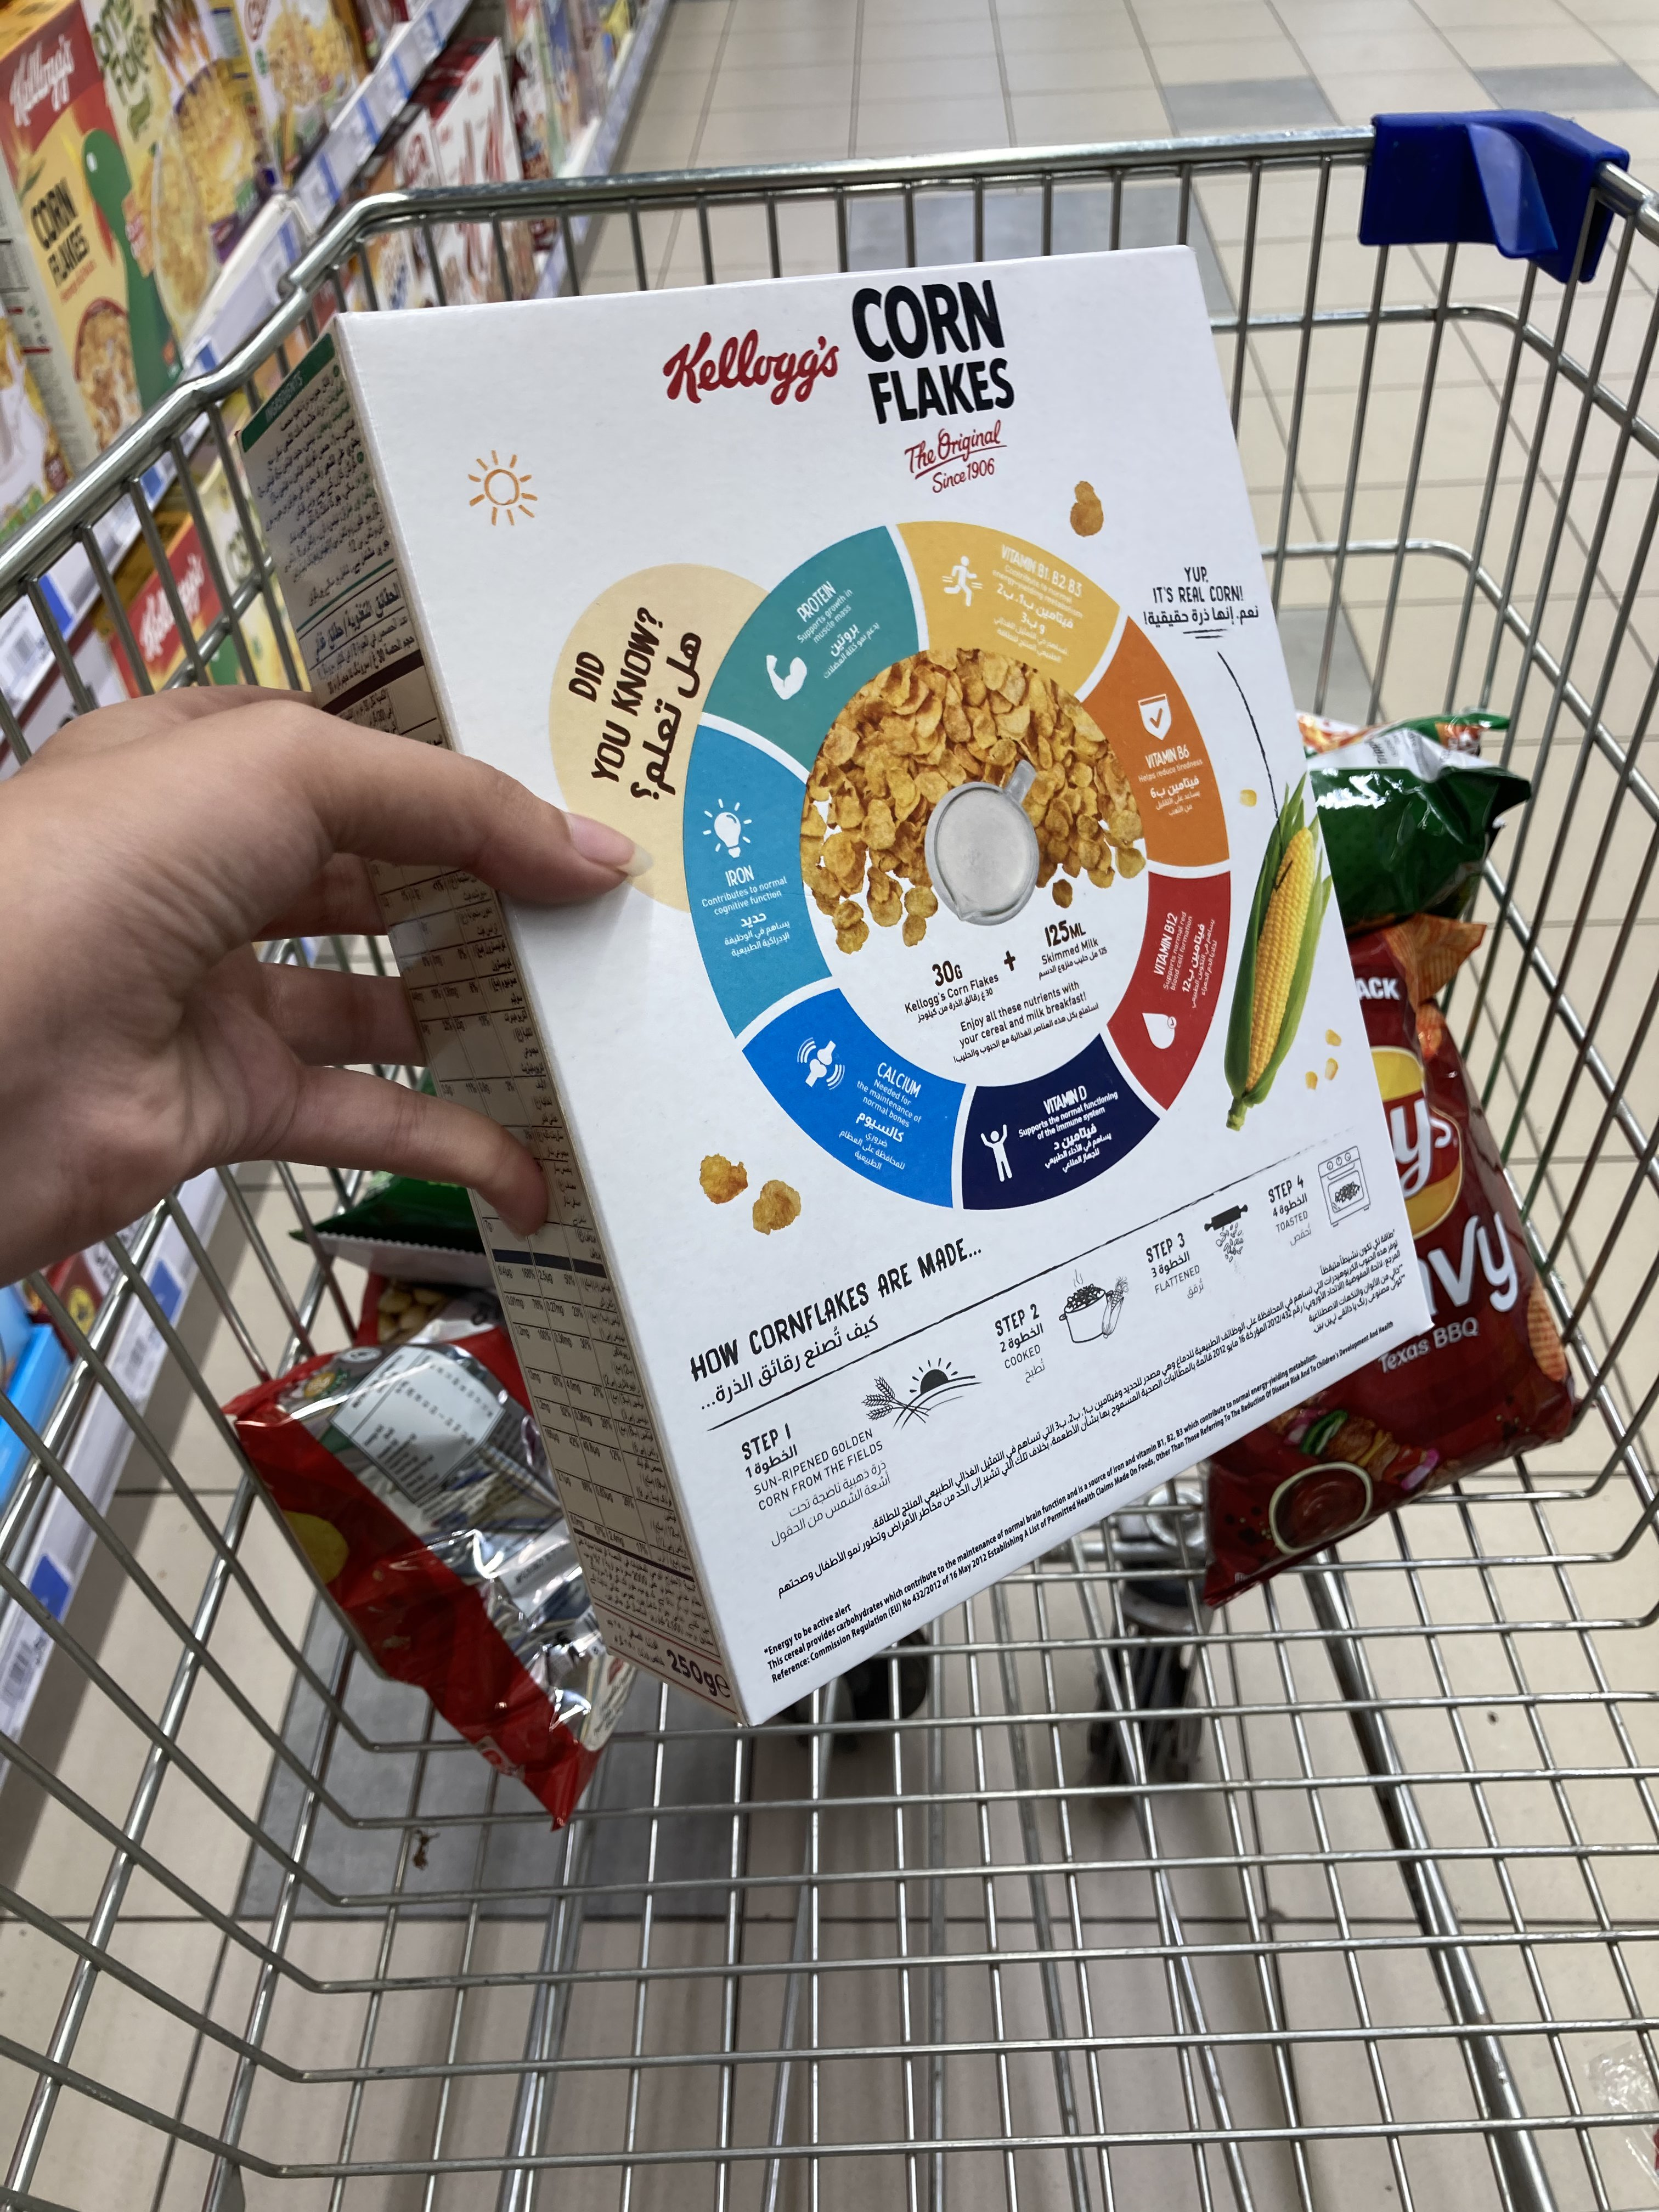Kellogg's Corn Flakes: (234, 242, 1441, 1733)
